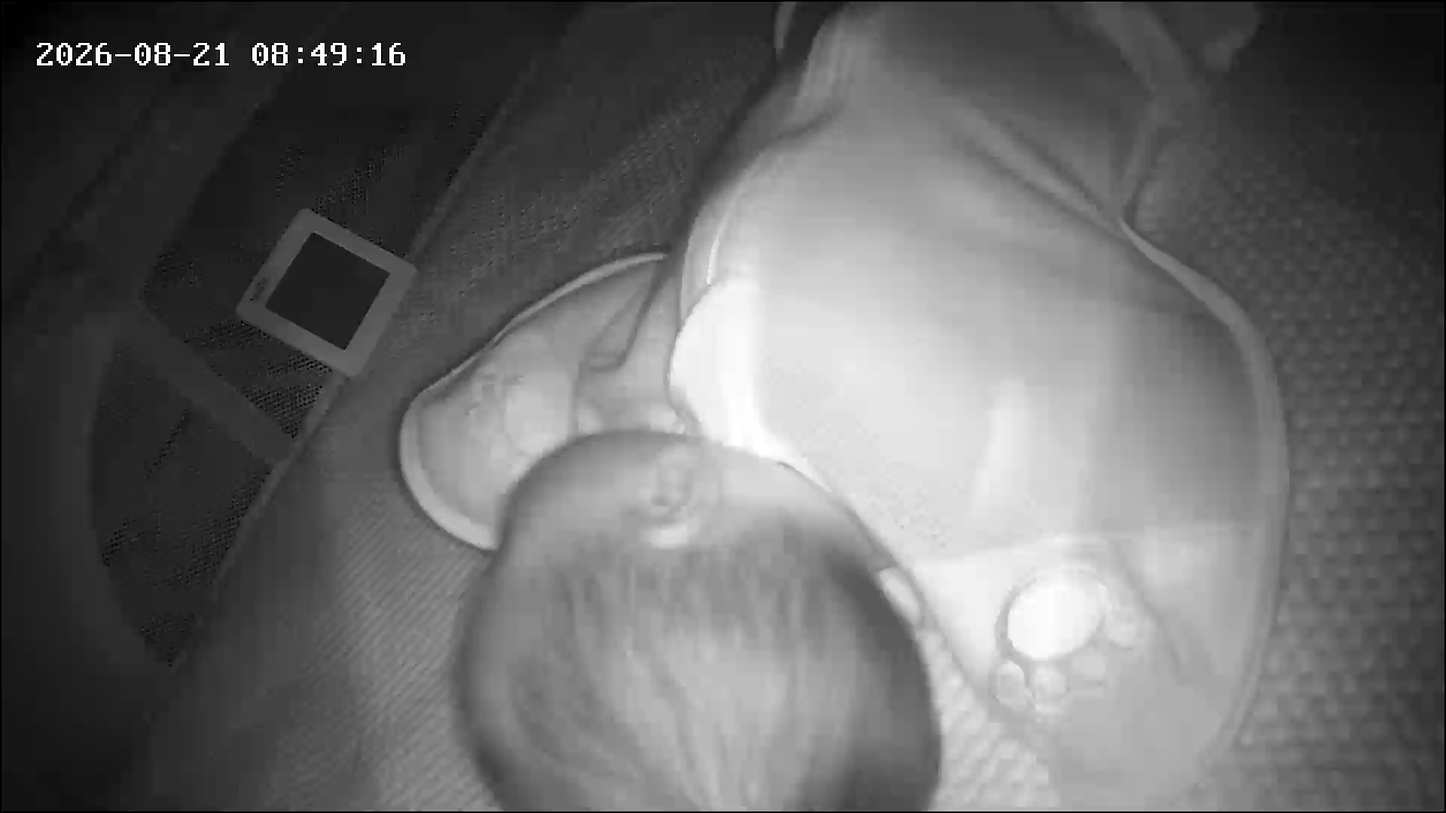baby: (441, 0, 1334, 811)
baby_face: (446, 408, 937, 813)
